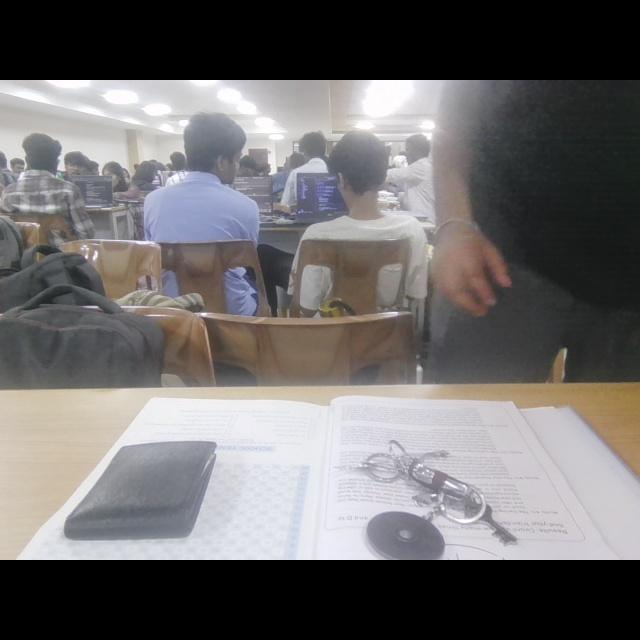keys: (351, 428, 513, 560)
wallet: (65, 436, 243, 546)
